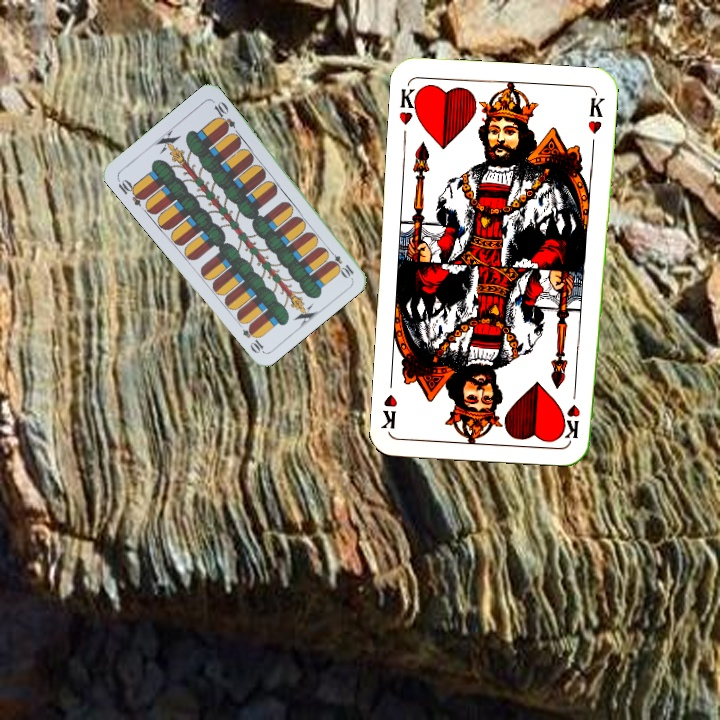E10: (113, 174, 148, 209), (323, 245, 356, 280)
HK: (395, 81, 423, 127), (562, 381, 583, 441)
